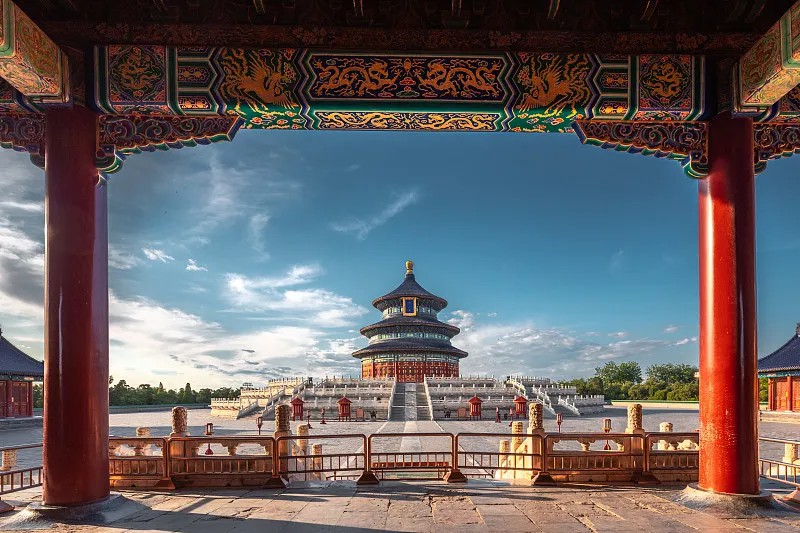Heaven: (352, 261, 469, 379)
